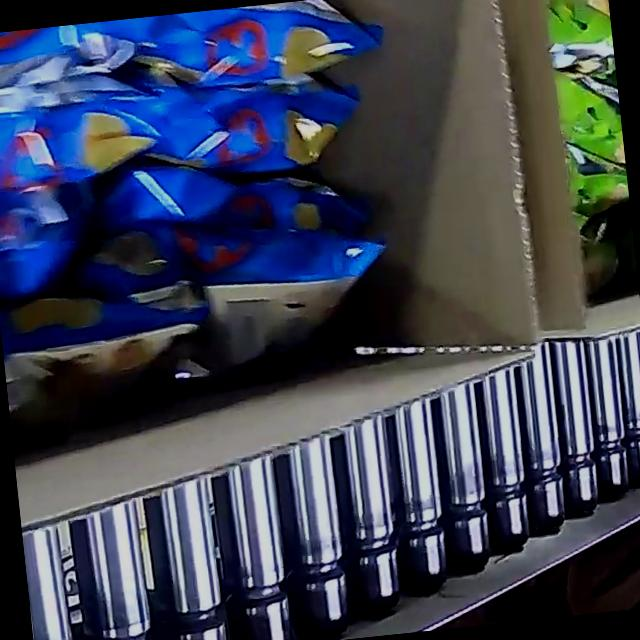paprika: (0, 0, 422, 445)
yogurt: (540, 0, 638, 295)
